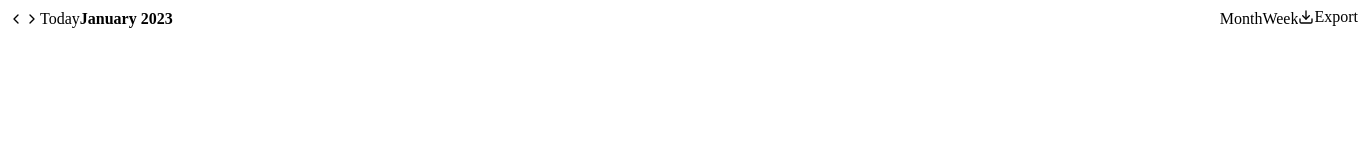
Test: CalendarHeader accessibility › exposes the export dropdown as a menu with aria-haspopup/aria-expanded
Click the button "Export" at point(1328, 17), box top-left (1298, 8), bottom-right (1358, 26)
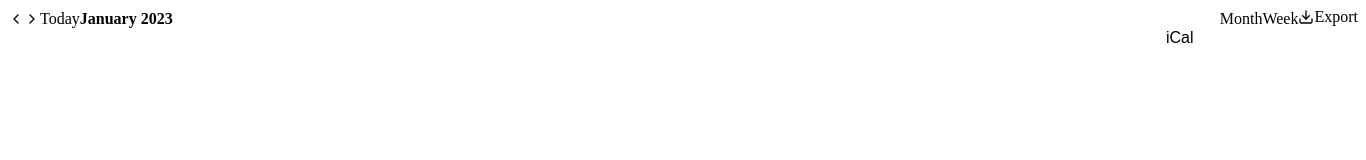
Check: the menu item "iCal" is shown, box top-left (1166, 29), bottom-right (1358, 47)
